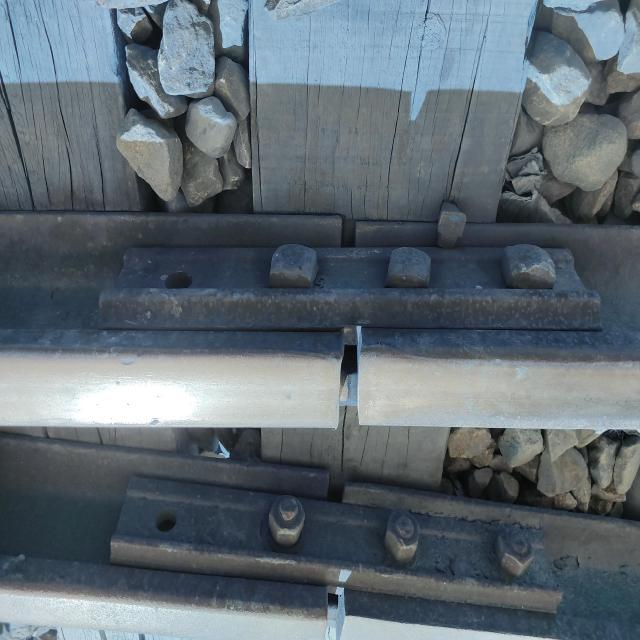Defective Joint: (105, 477, 564, 612), (97, 241, 605, 327)
Good Fasteners: (437, 202, 466, 249)
